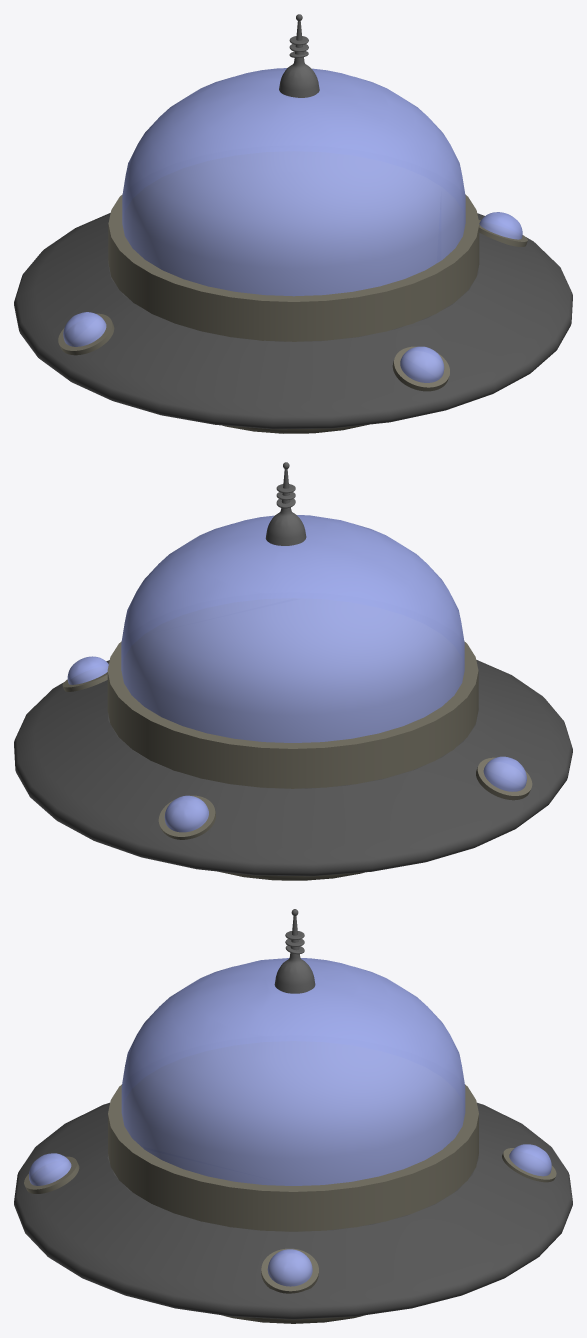
The model's file is Ufo.fbx.
The picture shows the model from 3 angles, top to bottom: view 1: azimuth 30°, elevation 25°; view 2: azimuth 150°, elevation 25°; view 3: azimuth 270°, elevation 25°; orthographic projection.
Visible parts, largest first — view 1: UFO; view 2: UFO; view 3: UFO.
Part boxes in pixels (x1,y1,x2,y2): UFO: (14,14,572,433); UFO: (14,462,572,880); UFO: (14,909,572,1323).
Bounding box in the file's own units: 5.37 × 4.18 × 5.38.
